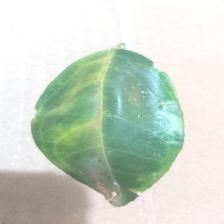greening: (28, 33, 188, 209)
